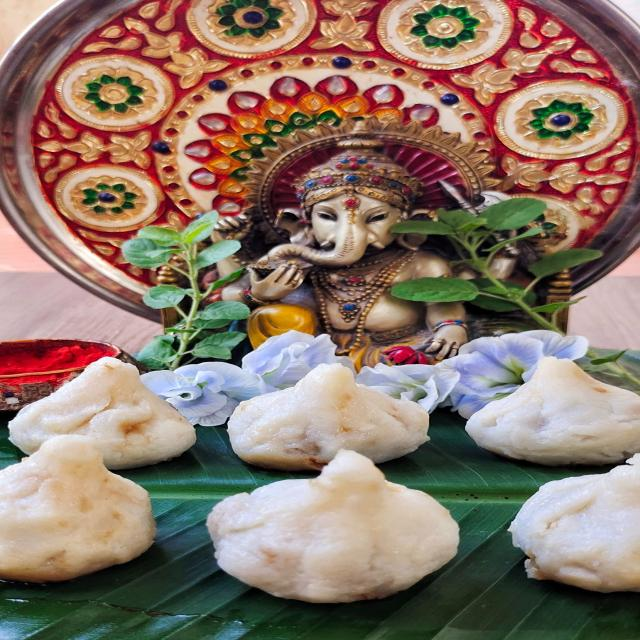poorna kolukattai: (0, 341, 640, 591)
